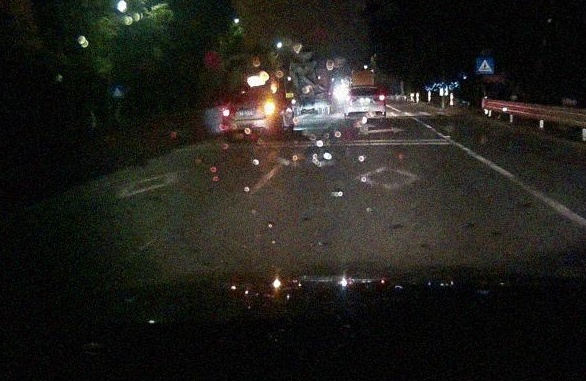L_light: (223, 109, 236, 115), (345, 97, 358, 102)
R_light: (258, 105, 273, 113), (373, 96, 385, 101)
T_light: (250, 93, 258, 96), (361, 88, 368, 90)
night-no: (343, 86, 386, 119)
night-right: (222, 90, 276, 143)
